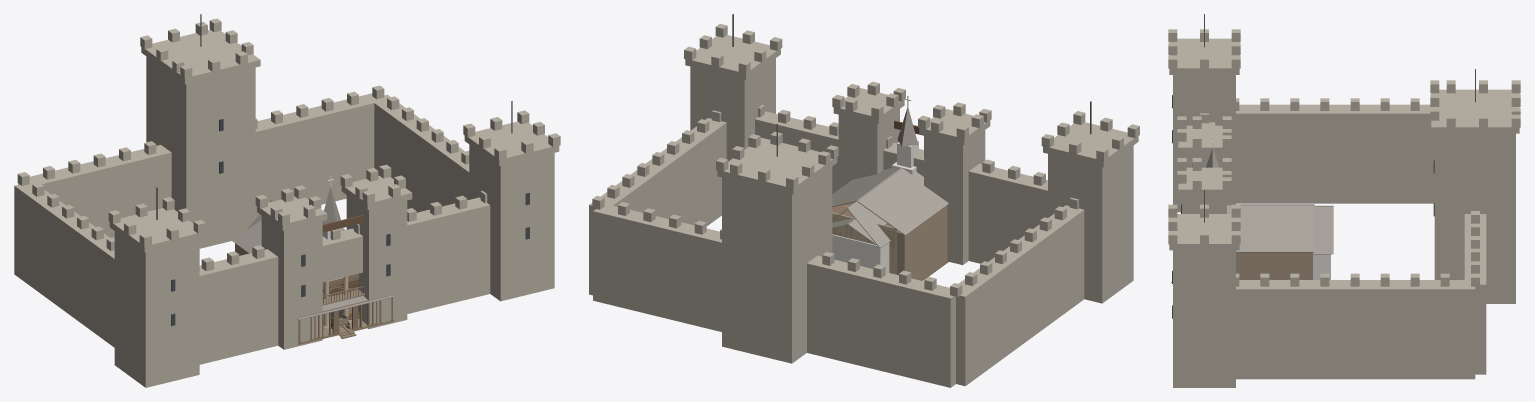
The model's file is town_kit.glb.
The picture shows the model from 3 angles, left to right: view 1: azimuth 30°, elevation 25°; view 2: azimuth 150°, elevation 25°; view 3: azimuth 270°, elevation 25°; orthographic projection.
Parts seen in each view (by area): view 1: FortKnox_geo, Bldg_Saloon_geo, Bldg_A_geo, Bldg_C_geo, Bldg_Armory_geo, Church_geo; view 2: FortKnox_geo, Bldg_Saloon_geo, Church_geo, Bldg_Treasury_geo; view 3: FortKnox_geo, Bldg_Saloon_geo, Church_geo.
Boxes of the visible parts, x1,y1,x2,y2 form: FortKnox_geo: [14, 14, 560, 387]; Bldg_Saloon_geo: [232, 220, 395, 344]; Bldg_A_geo: [317, 276, 376, 338]; Bldg_C_geo: [321, 275, 371, 337]; Bldg_Armory_geo: [313, 283, 379, 340]; Church_geo: [246, 176, 343, 281]; FortKnox_geo: [589, 14, 1139, 387]; Bldg_Saloon_geo: [832, 167, 948, 280]; Church_geo: [832, 95, 918, 272]; Bldg_Treasury_geo: [832, 201, 898, 274]; FortKnox_geo: [1168, 14, 1520, 387]; Bldg_Saloon_geo: [1227, 204, 1314, 279]; Church_geo: [1206, 137, 1333, 279].
Size of the model in its own units: 54 by 26.8 by 39.
